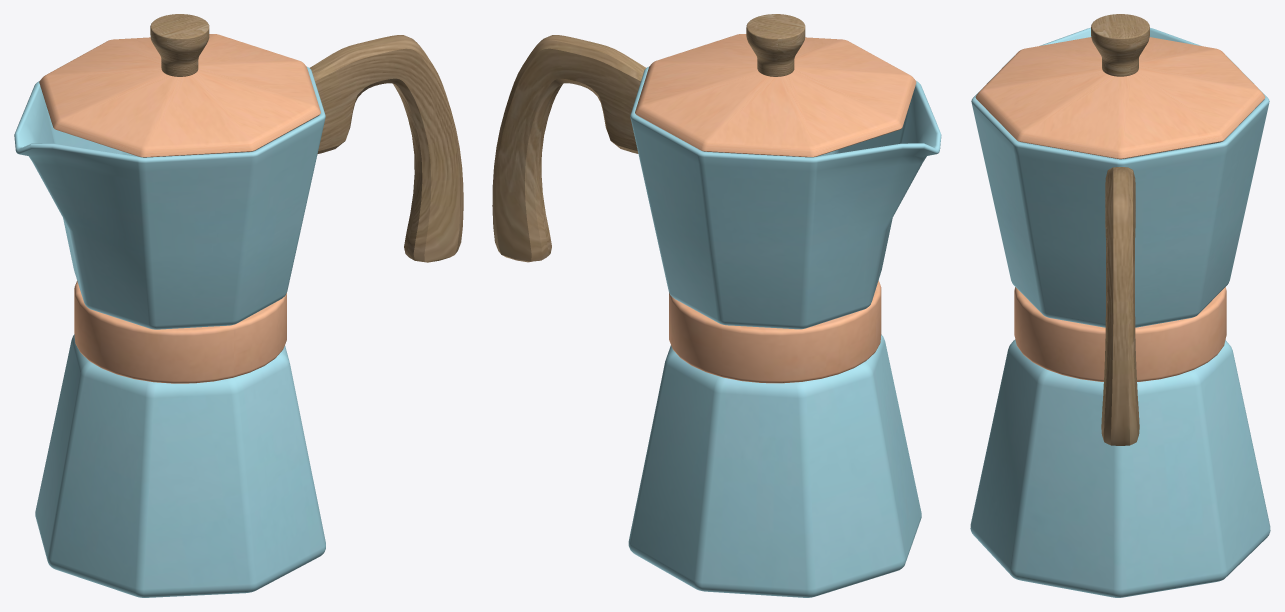
The model's file is source-moka.glb.
The picture shows the model from 3 angles, left to right: view 1: azimuth 30°, elevation 25°; view 2: azimuth 150°, elevation 25°; view 3: azimuth 270°, elevation 25°; orthographic projection.
Parts seen in each view (by area): view 1: Body Bottom, Body Bottom.005, Body Bottom.002, Body Bottom.004, Body Bottom.001, Body Bottom.003; view 2: Body Bottom, Body Bottom.005, Body Bottom.002, Body Bottom.004, Body Bottom.001, Body Bottom.003; view 3: Body Bottom, Body Bottom.005, Body Bottom.002, Body Bottom.001, Body Bottom.004, Body Bottom.003.
Part boxes in pixels (bbox=[...]): Body Bottom: bbox=[35, 334, 325, 597]; Body Bottom.005: bbox=[14, 67, 325, 329]; Body Bottom.002: bbox=[39, 34, 320, 157]; Body Bottom.004: bbox=[310, 35, 463, 262]; Body Bottom.001: bbox=[74, 281, 286, 383]; Body Bottom.003: bbox=[150, 14, 209, 76]; Body Bottom: bbox=[628, 334, 921, 597]; Body Bottom.005: bbox=[630, 67, 941, 329]; Body Bottom.002: bbox=[635, 34, 916, 157]; Body Bottom.004: bbox=[492, 35, 645, 262]; Body Bottom.001: bbox=[669, 280, 881, 383]; Body Bottom.003: bbox=[746, 14, 805, 76]; Body Bottom: bbox=[970, 339, 1270, 597]; Body Bottom.005: bbox=[971, 27, 1269, 327]; Body Bottom.002: bbox=[975, 37, 1265, 159]; Body Bottom.001: bbox=[1014, 287, 1226, 381]; Body Bottom.004: bbox=[1101, 167, 1139, 445]; Body Bottom.003: bbox=[1091, 14, 1149, 76].
Size of the model in its own units: 0.2143 by 0.2375 by 0.1262.
3 materials, 3 textured.
